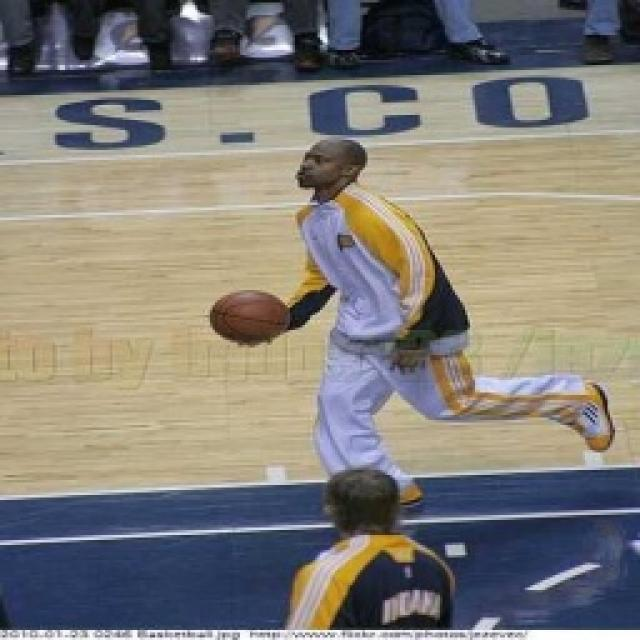rim: (202, 284, 296, 350)
